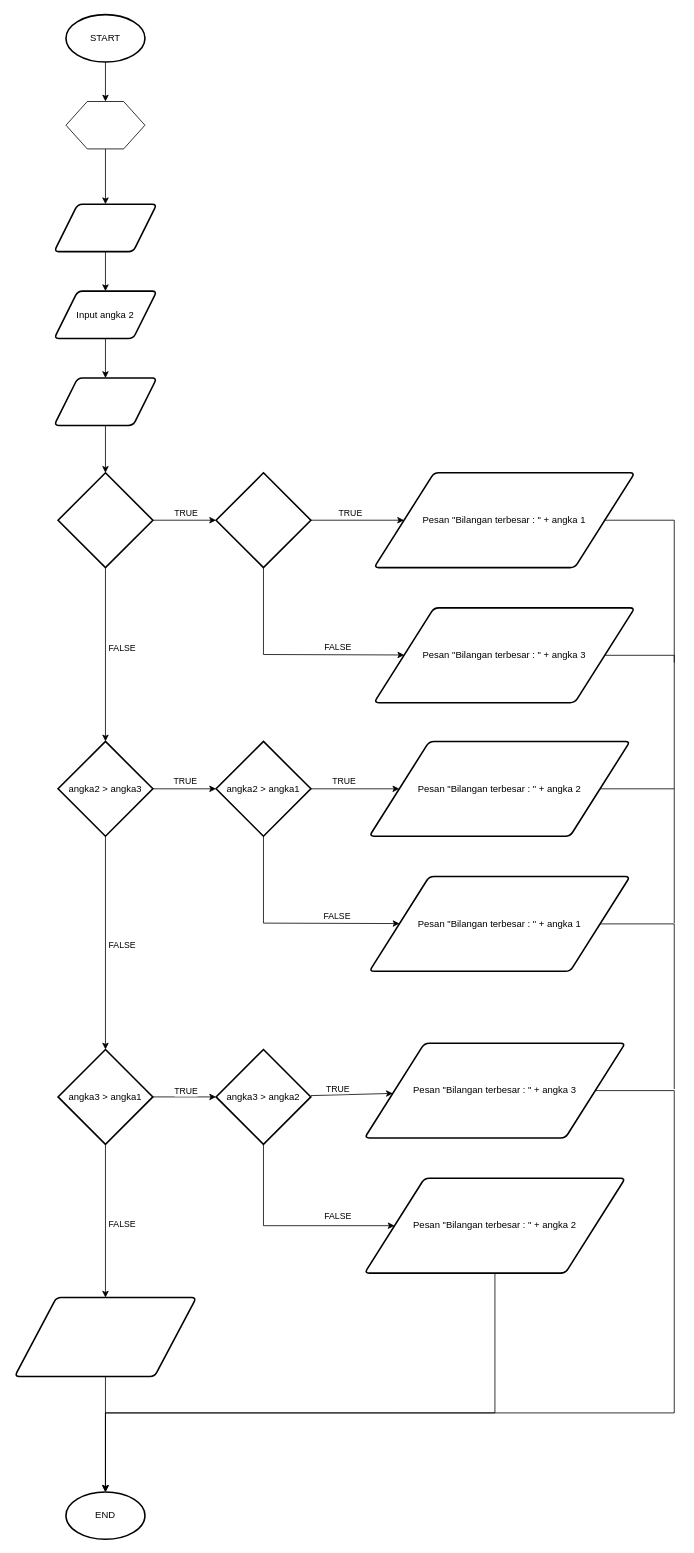
This 694x1553 diagram has some shape labels left out. Each missing label, with the box of its shape:
angka1 > angka2: (57, 472, 153, 568)
angka1 > angka3: (215, 472, 311, 568)
Input angka 1: (53, 203, 157, 252)
Input angka 3: (53, 377, 157, 426)
INT angka1, angka2, angka3: (65, 101, 145, 149)
Pesan "Semua angka sama": (13, 1296, 197, 1377)
